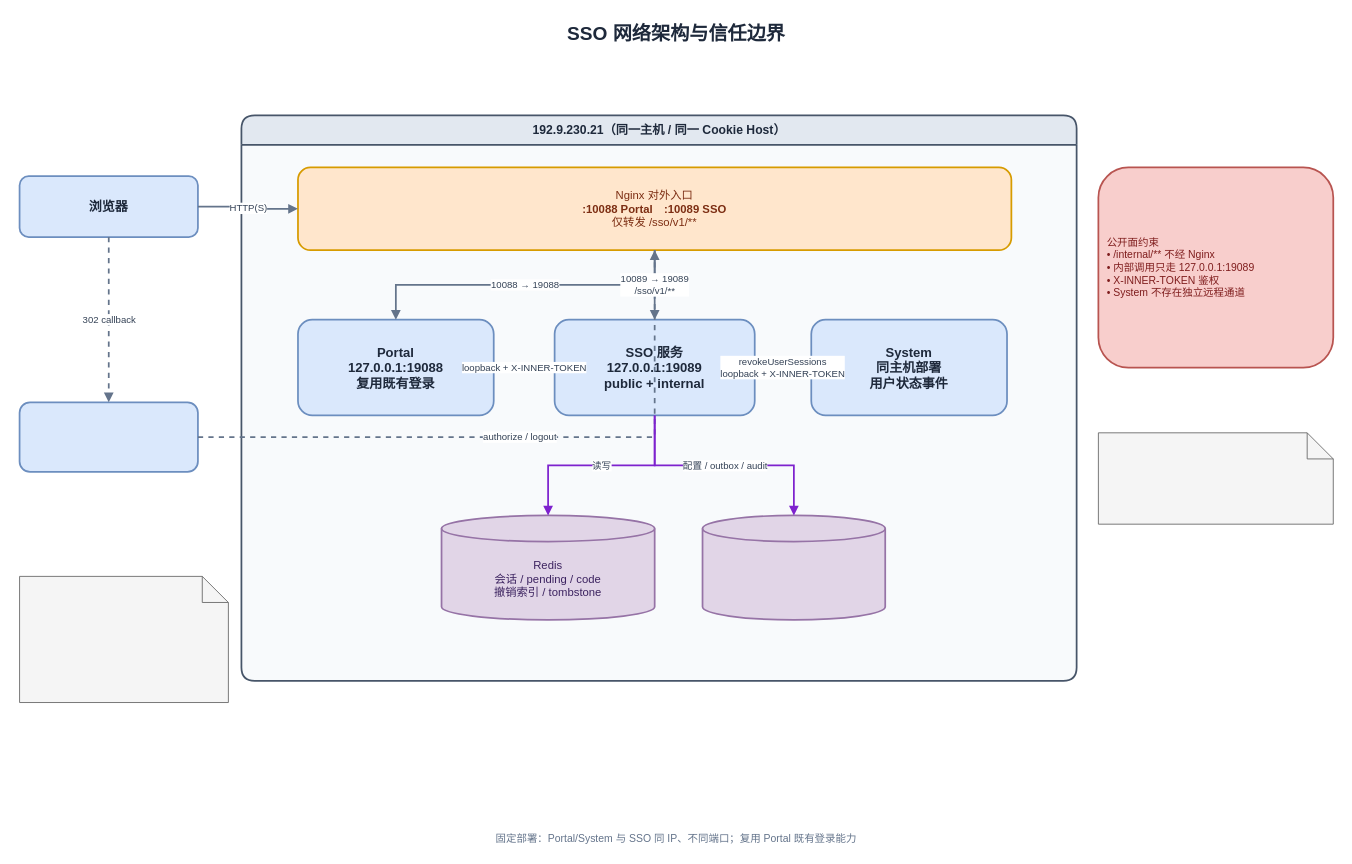
Image size: 1352x864. Some labels were removed from this diagram. The shapes that lost their labels are listed below. From the top down, each one's centre as x and y in pixels, then its label:
point (108, 436): B 系统（外部接入方）
point (1215, 478): 实线：运行时调用 虚线：浏览器重定向
point (793, 567): MySQL client / redirect URI outbox / audit
point (123, 639): Cookie 边界 SSO_SID ：Host=192.9.230.21，Path=/sso/v1 PORTAL_SSO_REF ：Path=/
